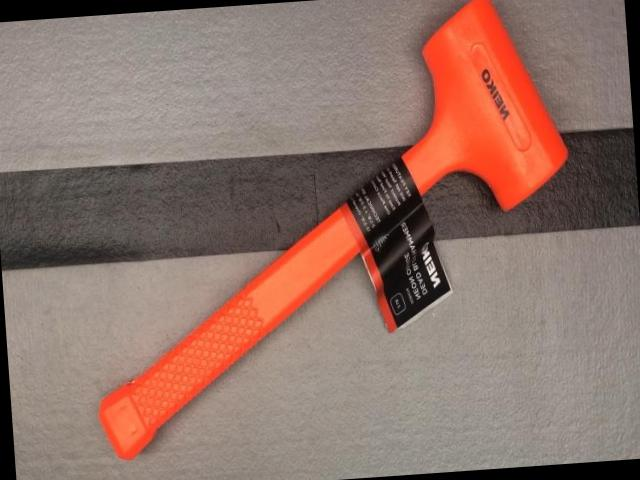hammer: (70, 0, 586, 460)
